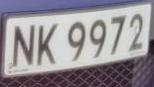2: (126, 9, 145, 53)
7: (107, 12, 130, 60)
9: (64, 14, 89, 67), (86, 14, 111, 63)
K: (35, 18, 59, 72)
N: (12, 18, 36, 74)
